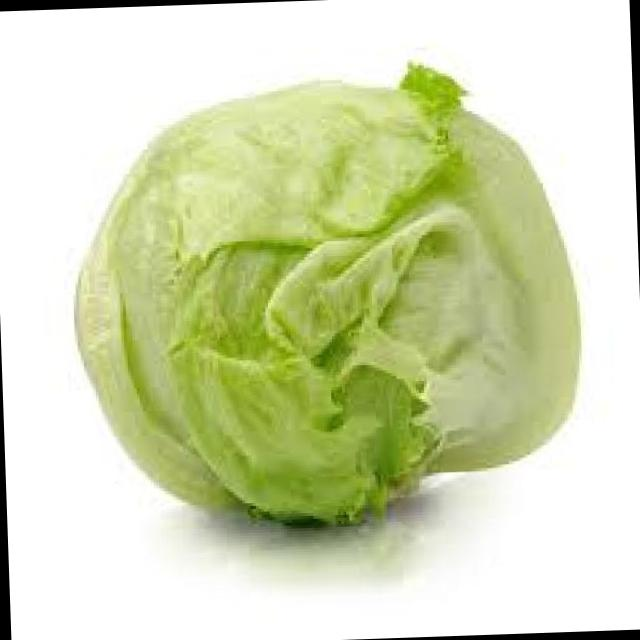Lettuce-Ready-to-Harvest: (76, 67, 578, 524)
